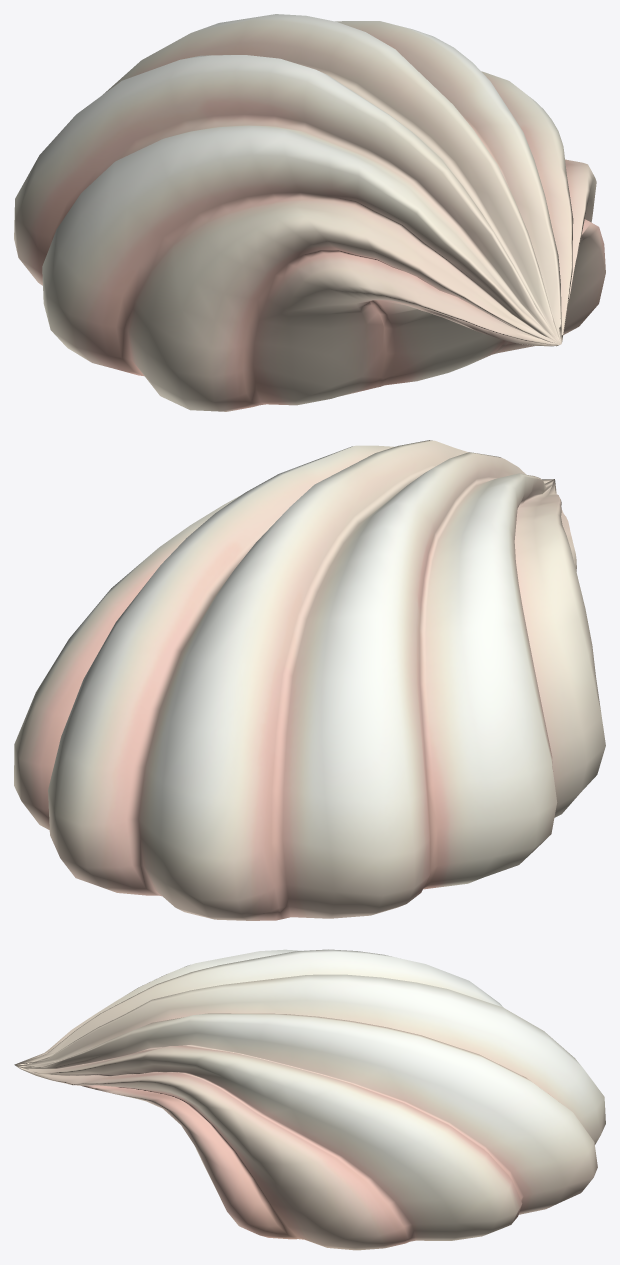
The model's file is Whippedcream_Singleunit2_03.fbx.
The picture shows the model from 3 angles, top to bottom: view 1: azimuth 30°, elevation 25°; view 2: azimuth 150°, elevation 25°; view 3: azimuth 270°, elevation 25°; orthographic projection. The views are drawn at different scales.
Parts seen in each view (by area): view 1: Whippedcream_Singleunit2; view 2: Whippedcream_Singleunit2; view 3: Whippedcream_Singleunit2.
Boxes of the visible parts, x1,y1,x2,y2 form: Whippedcream_Singleunit2: (14, 14, 605, 411); Whippedcream_Singleunit2: (14, 440, 605, 920); Whippedcream_Singleunit2: (14, 949, 605, 1250).
Bounding box in the file's own units: 119 × 71.69 × 173.
Materials: 1 (1 with a texture image).
